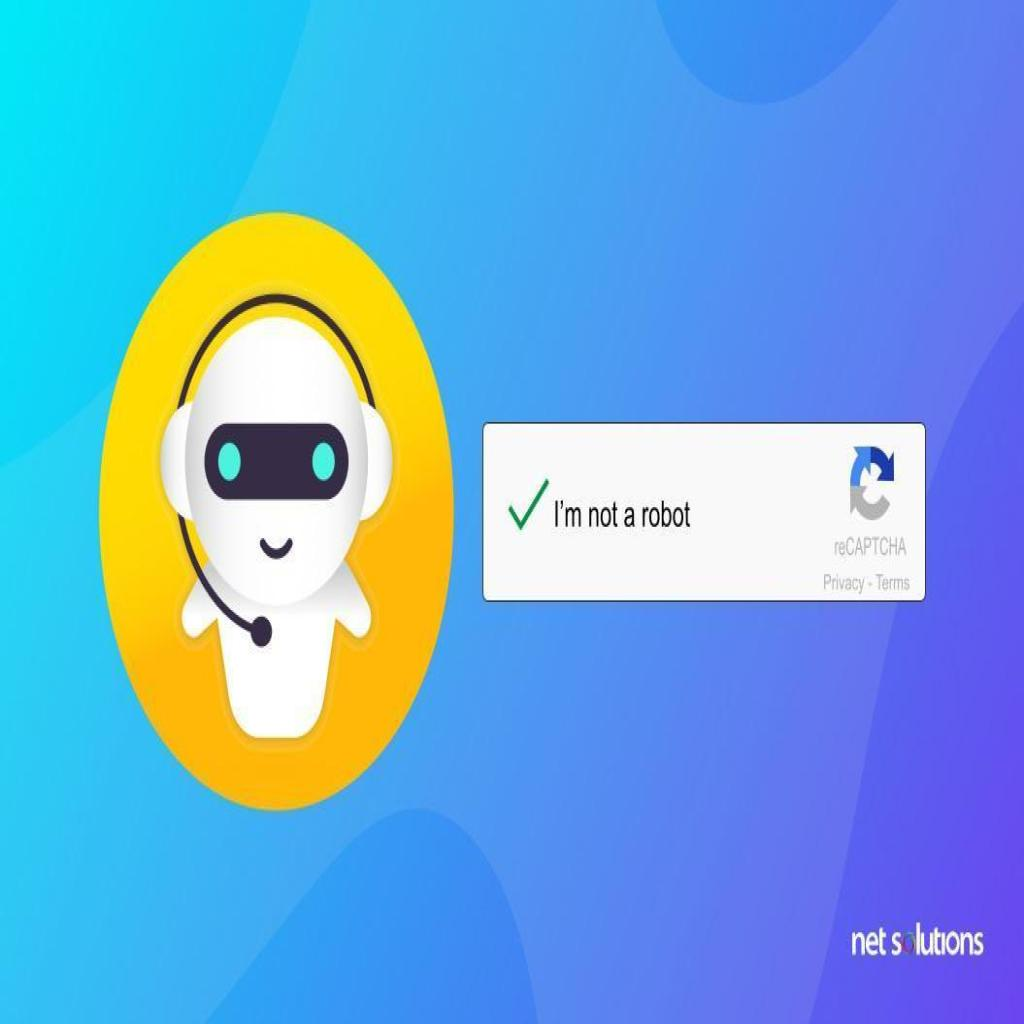icon: (502, 476, 550, 541)
label: (551, 494, 695, 537)
